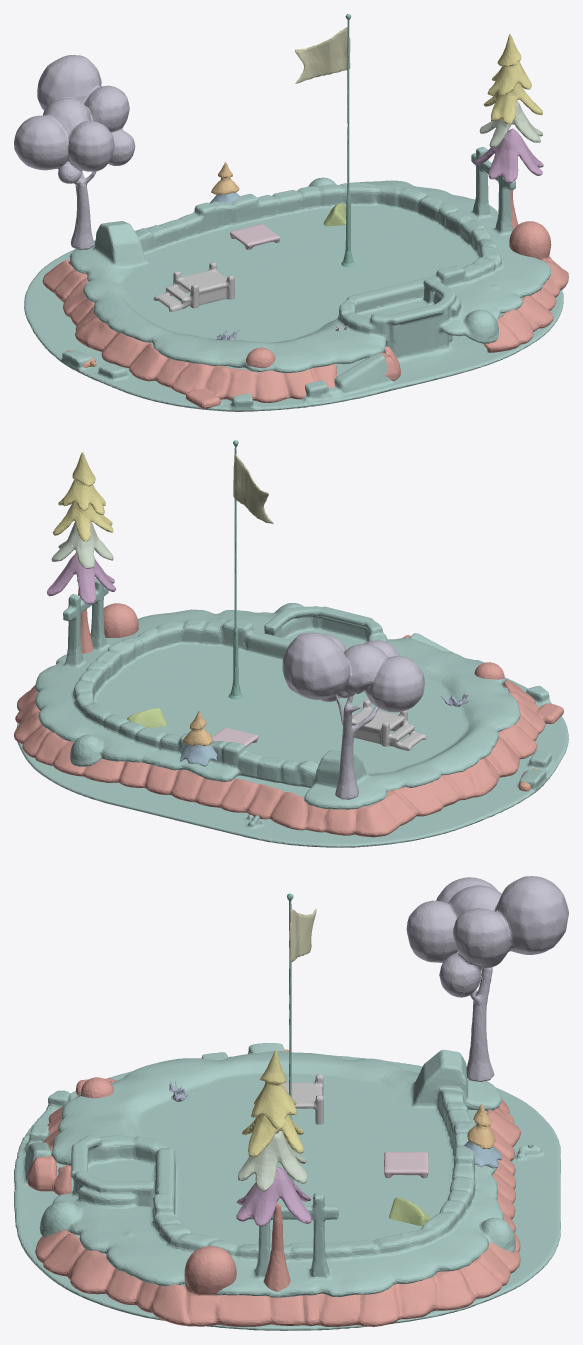
The model's file is playground.glb.
3 renders of one model, top to bottom at view 1: azimuth 30°, elevation 25°; view 2: azimuth 150°, elevation 25°; view 3: azimuth 270°, elevation 25°, orthographic. The views are drawn at different scales.
Visible parts, largest first — view 1: playground_1.obj, playground_1.obj_3, playground_1.obj_2, playground_1.obj_11, playground_1.obj_8, playground_1.obj_1, playground_1.obj_9, playground_1.obj_10, playground_1.obj_12, playground_1.obj_7, playground_1.obj_5; view 2: playground_1.obj, playground_1.obj_3, playground_1.obj_2, playground_1.obj_11, playground_1.obj_8, playground_1.obj_9, playground_1.obj_1, playground_1.obj_10, playground_1.obj_12, playground_1.obj_4, playground_1.obj_5, playground_1.obj_6 (+1 smaller); view 3: playground_1.obj, playground_1.obj_3, playground_1.obj_2, playground_1.obj_11, playground_1.obj_9, playground_1.obj_10, playground_1.obj_8, playground_1.obj_7, playground_1.obj_1, playground_1.obj_5, playground_1.obj_6, playground_1.obj_12 (+1 smaller).
Part boxes in pixels (bbox=[...]): playground_1.obj: bbox=[24, 147, 563, 411]; playground_1.obj_3: bbox=[42, 190, 568, 408]; playground_1.obj_2: bbox=[14, 55, 135, 249]; playground_1.obj_11: bbox=[484, 34, 542, 124]; playground_1.obj_8: bbox=[153, 262, 234, 311]; playground_1.obj_1: bbox=[295, 27, 350, 83]; playground_1.obj_9: bbox=[474, 128, 543, 183]; playground_1.obj_10: bbox=[479, 101, 542, 147]; playground_1.obj_12: bbox=[341, 14, 355, 267]; playground_1.obj_7: bbox=[230, 224, 280, 249]; playground_1.obj_5: bbox=[211, 162, 239, 194]; playground_1.obj: bbox=[16, 577, 568, 847]; playground_1.obj_3: bbox=[14, 588, 563, 837]; playground_1.obj_2: bbox=[282, 632, 424, 799]; playground_1.obj_11: bbox=[53, 452, 113, 541]; playground_1.obj_8: bbox=[352, 699, 427, 750]; playground_1.obj_9: bbox=[47, 552, 115, 604]; playground_1.obj_1: bbox=[233, 454, 273, 523]; playground_1.obj_10: bbox=[51, 522, 113, 568]; playground_1.obj_12: bbox=[228, 440, 242, 699]; playground_1.obj_4: bbox=[180, 744, 217, 766]; playground_1.obj_5: bbox=[183, 710, 212, 746]; playground_1.obj_6: bbox=[127, 708, 167, 727]; playground_1.obj: bbox=[14, 1043, 560, 1330]; playground_1.obj_3: bbox=[27, 1074, 521, 1326]; playground_1.obj_2: bbox=[406, 876, 568, 1081]; playground_1.obj_11: bbox=[242, 1049, 303, 1157]; playground_1.obj_9: bbox=[236, 1166, 311, 1226]; playground_1.obj_10: bbox=[238, 1131, 307, 1191]; playground_1.obj_8: bbox=[282, 1074, 323, 1124]; playground_1.obj_7: bbox=[384, 1152, 428, 1178]; playground_1.obj_1: bbox=[290, 909, 316, 961]; playground_1.obj_5: bbox=[467, 1103, 495, 1149]; playground_1.obj_6: bbox=[389, 1197, 430, 1226]; playground_1.obj_12: bbox=[287, 893, 293, 1181].
Bounding box in the file's own units: 1.93 × 1.08 × 1.62.
